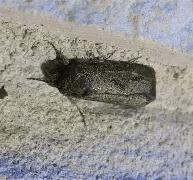army worm adult: (27, 32, 164, 130)
